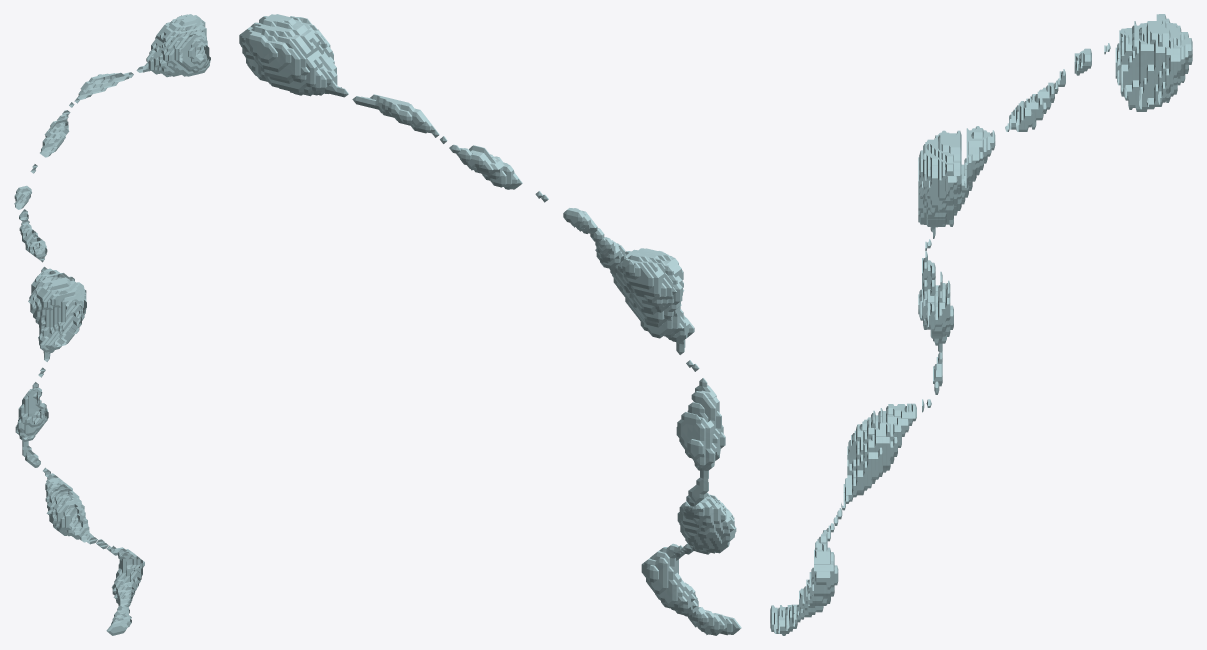
File: SVV_ASJL.gltf
3 renders of one model, left to right at view 1: azimuth 30°, elevation 25°; view 2: azimuth 150°, elevation 25°; view 3: azimuth 270°, elevation 25°, orthographic. The views are drawn at different scales.
Parts seen in each view (by area): view 1: ASJL; view 2: ASJL; view 3: ASJL.
Boxes of the visible parts, x1=… form: ASJL: x1=14, y1=14, x2=210, y2=635; ASJL: x1=239, y1=14, x2=741, y2=635; ASJL: x1=770, y1=14, x2=1192, y2=635.
Size of the model in its own units: 49185 by 85035 by 43535.
